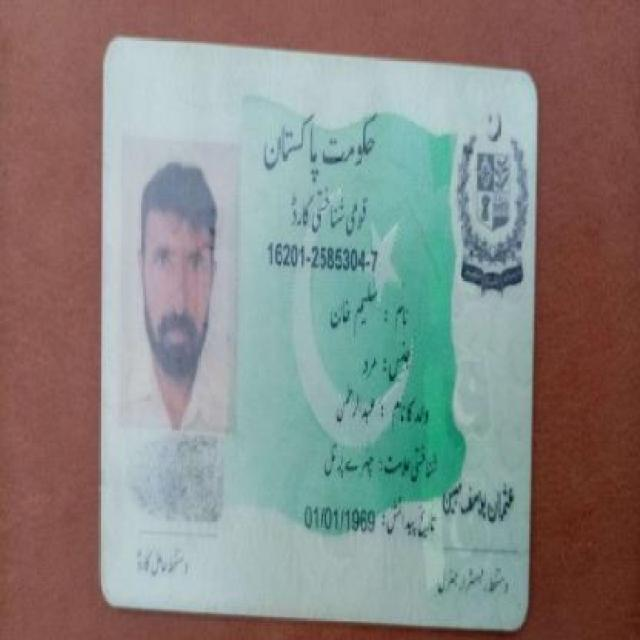Front: (91, 23, 535, 640)
